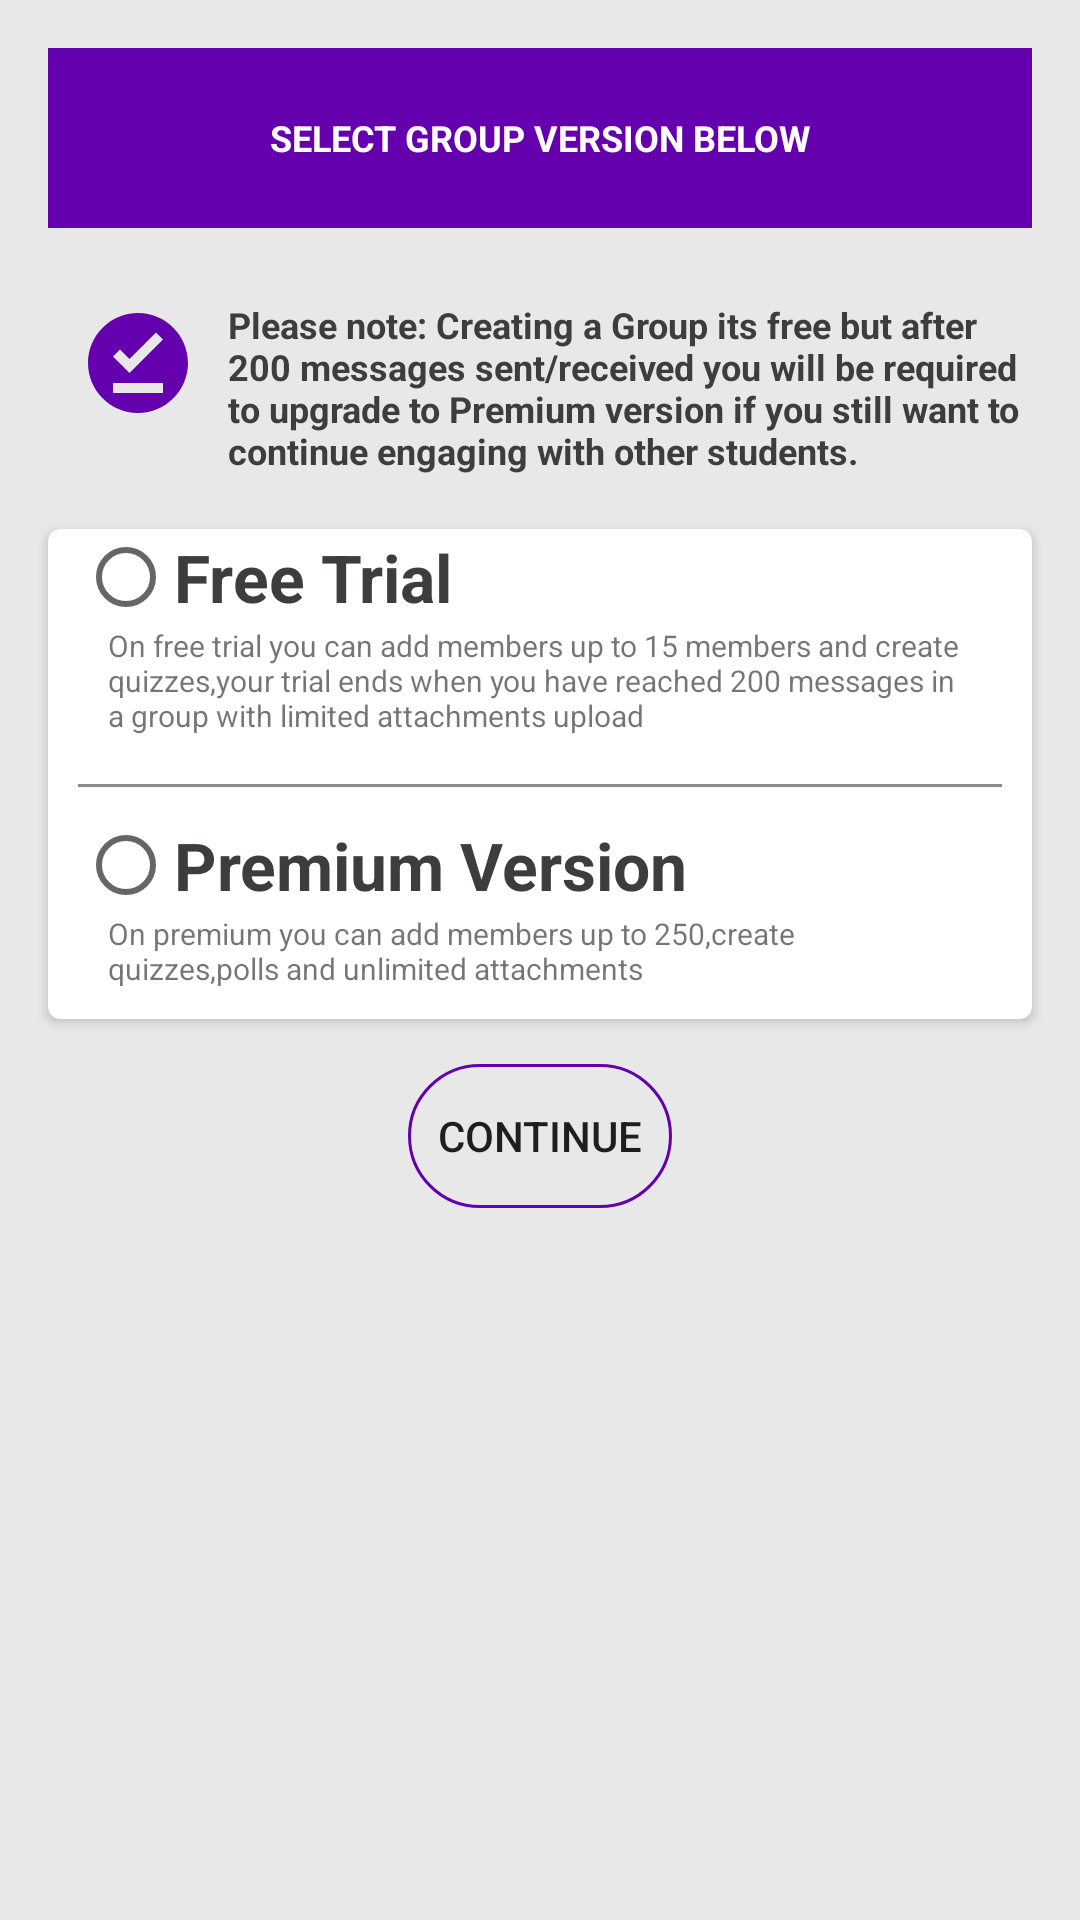

Icon click points for this 1080*1920 phone screenshot, format point (x, y):
offline pin: point (138, 363)
